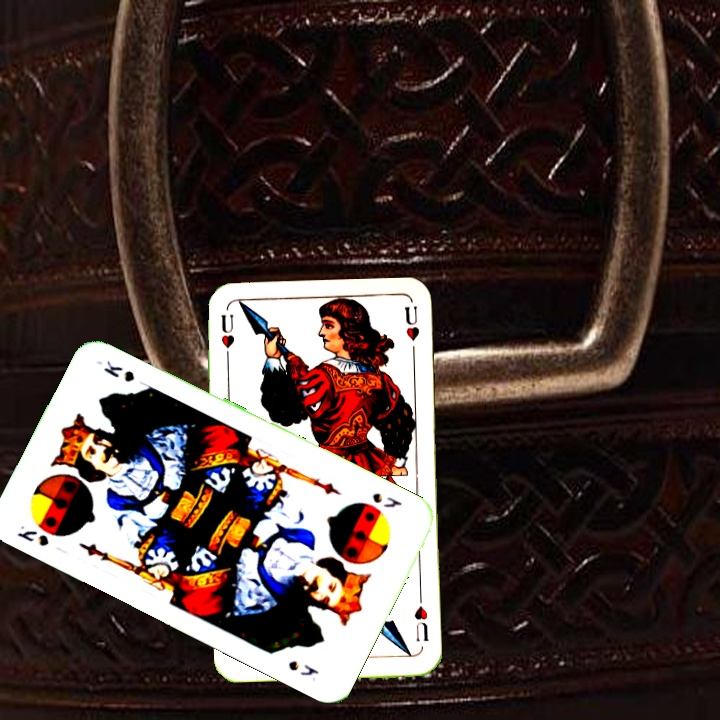HU: (217, 310, 237, 366), (410, 602, 431, 644)
SK: (12, 521, 51, 549), (368, 488, 404, 511)
